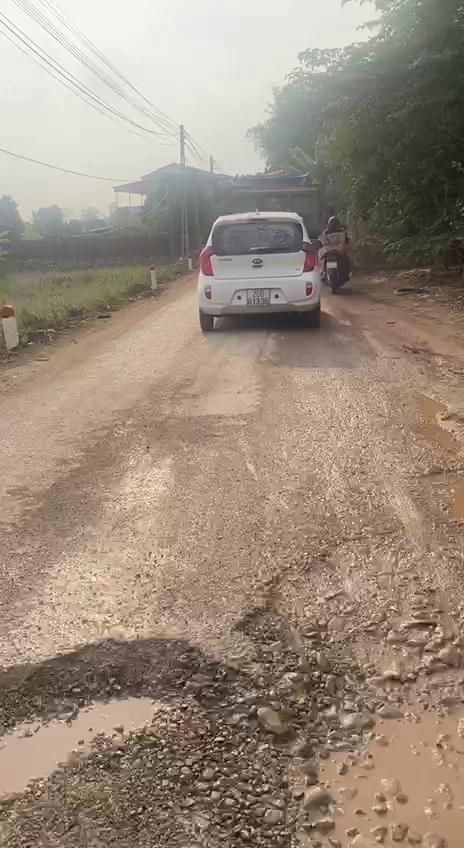pothole: (228, 521, 464, 848), (0, 631, 233, 805), (406, 392, 464, 526)
